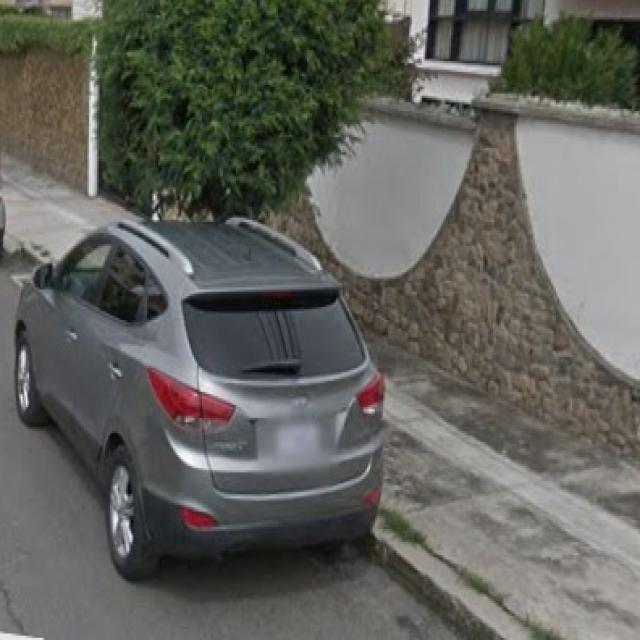Car: (9, 216, 388, 584)
